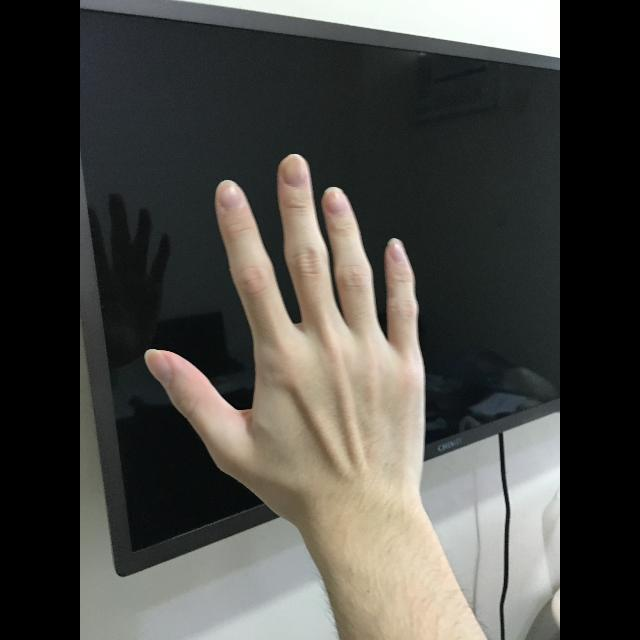bare_hand: (144, 145, 430, 515)
